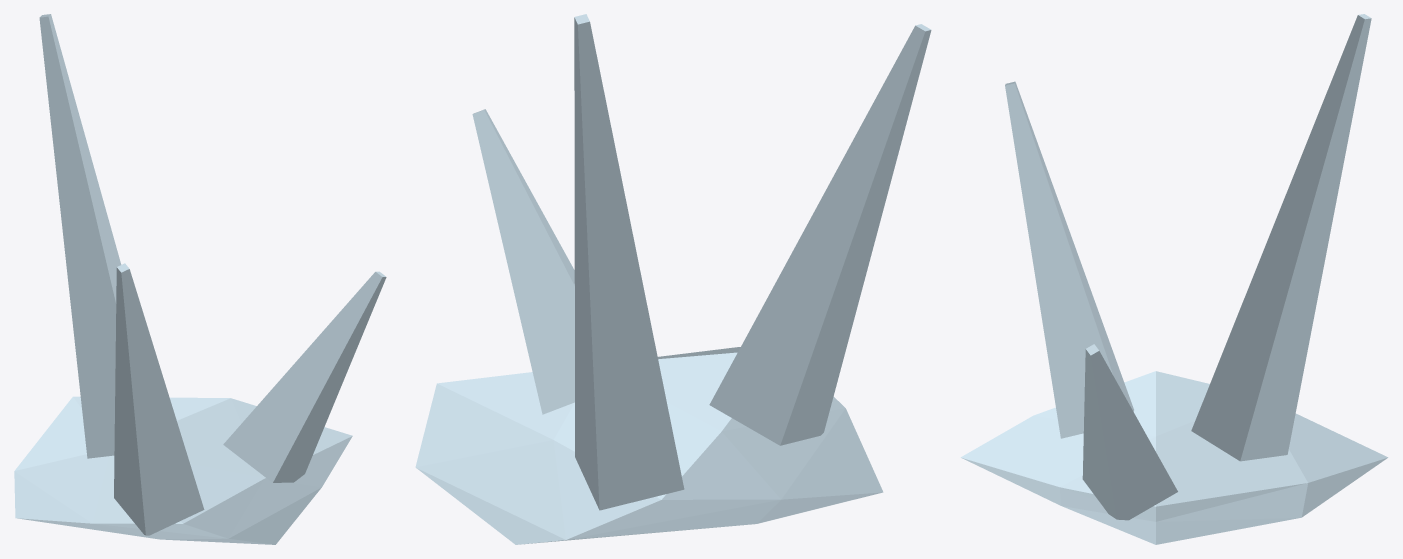
The model's file is ice_shard_v24.glb.
The picture shows the model from 3 angles, left to right: view 1: azimuth 30°, elevation 25°; view 2: azimuth 150°, elevation 25°; view 3: azimuth 270°, elevation 25°; orthographic projection. The views are drawn at different scales.
Visible parts, largest first — view 1: lod0; view 2: lod0; view 3: lod0.
Part boxes in pixels (x1=…): lod0: x1=14, y1=14, x2=386, y2=544; lod0: x1=415, y1=14, x2=931, y2=544; lod0: x1=960, y1=14, x2=1388, y2=544.
Size of what is drawn, in the model's own units: 0.5811 by 0.7286 by 0.5994.
